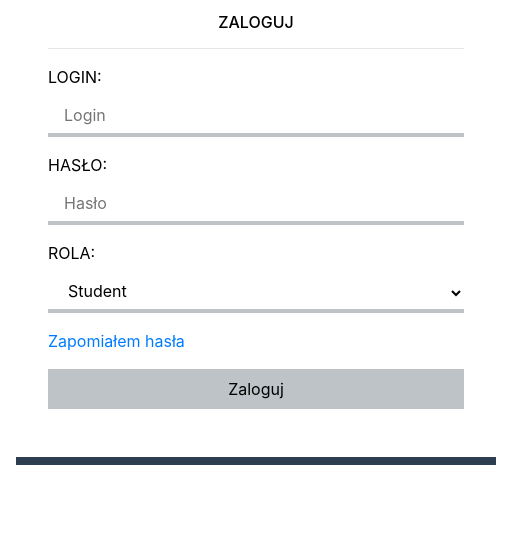
Scenario: test if invalid password or login
This screenshot has width=513, height=542.
Type "andrzej" into the field with placeholder "LOGIN".
click(256, 117); type("andrzej")  # box [48,97,464,137]
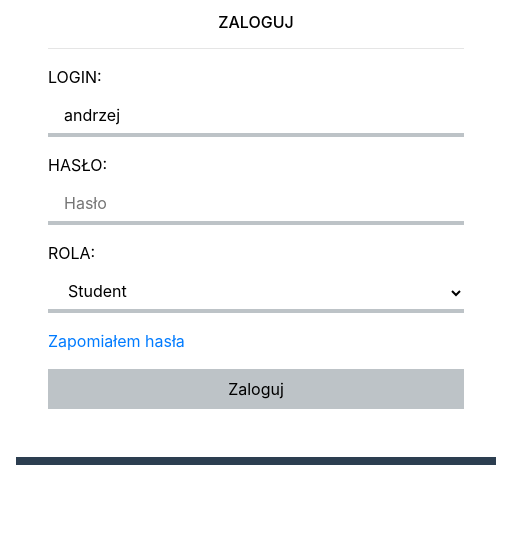
Type "kabanosik1234" into the password field with placeholder "HASŁO".
click(256, 205); type("kabanosik1234")  # box [48,185,464,225]
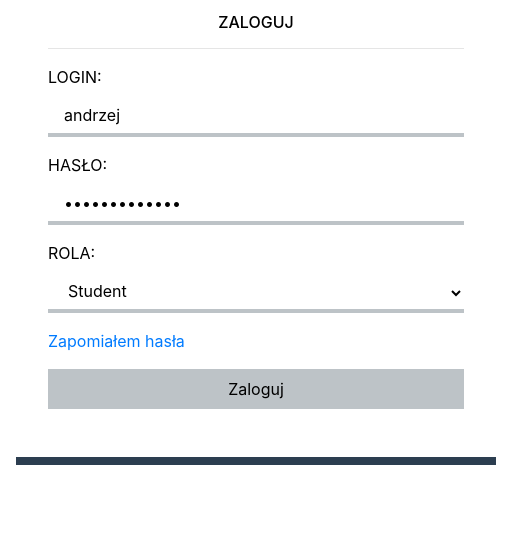
Check: the text "Wrong credentials." is not shown
Click the button "Zaloguj".
click(256, 389)  # box [48,369,464,409]
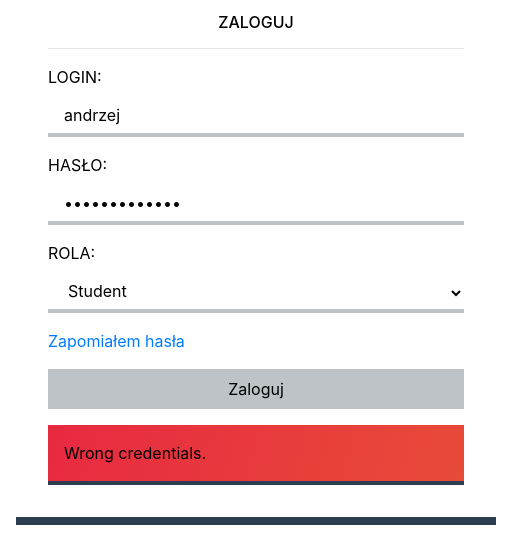
Check: the text "Wrong credentials." is shown, box [48,425,464,485]
